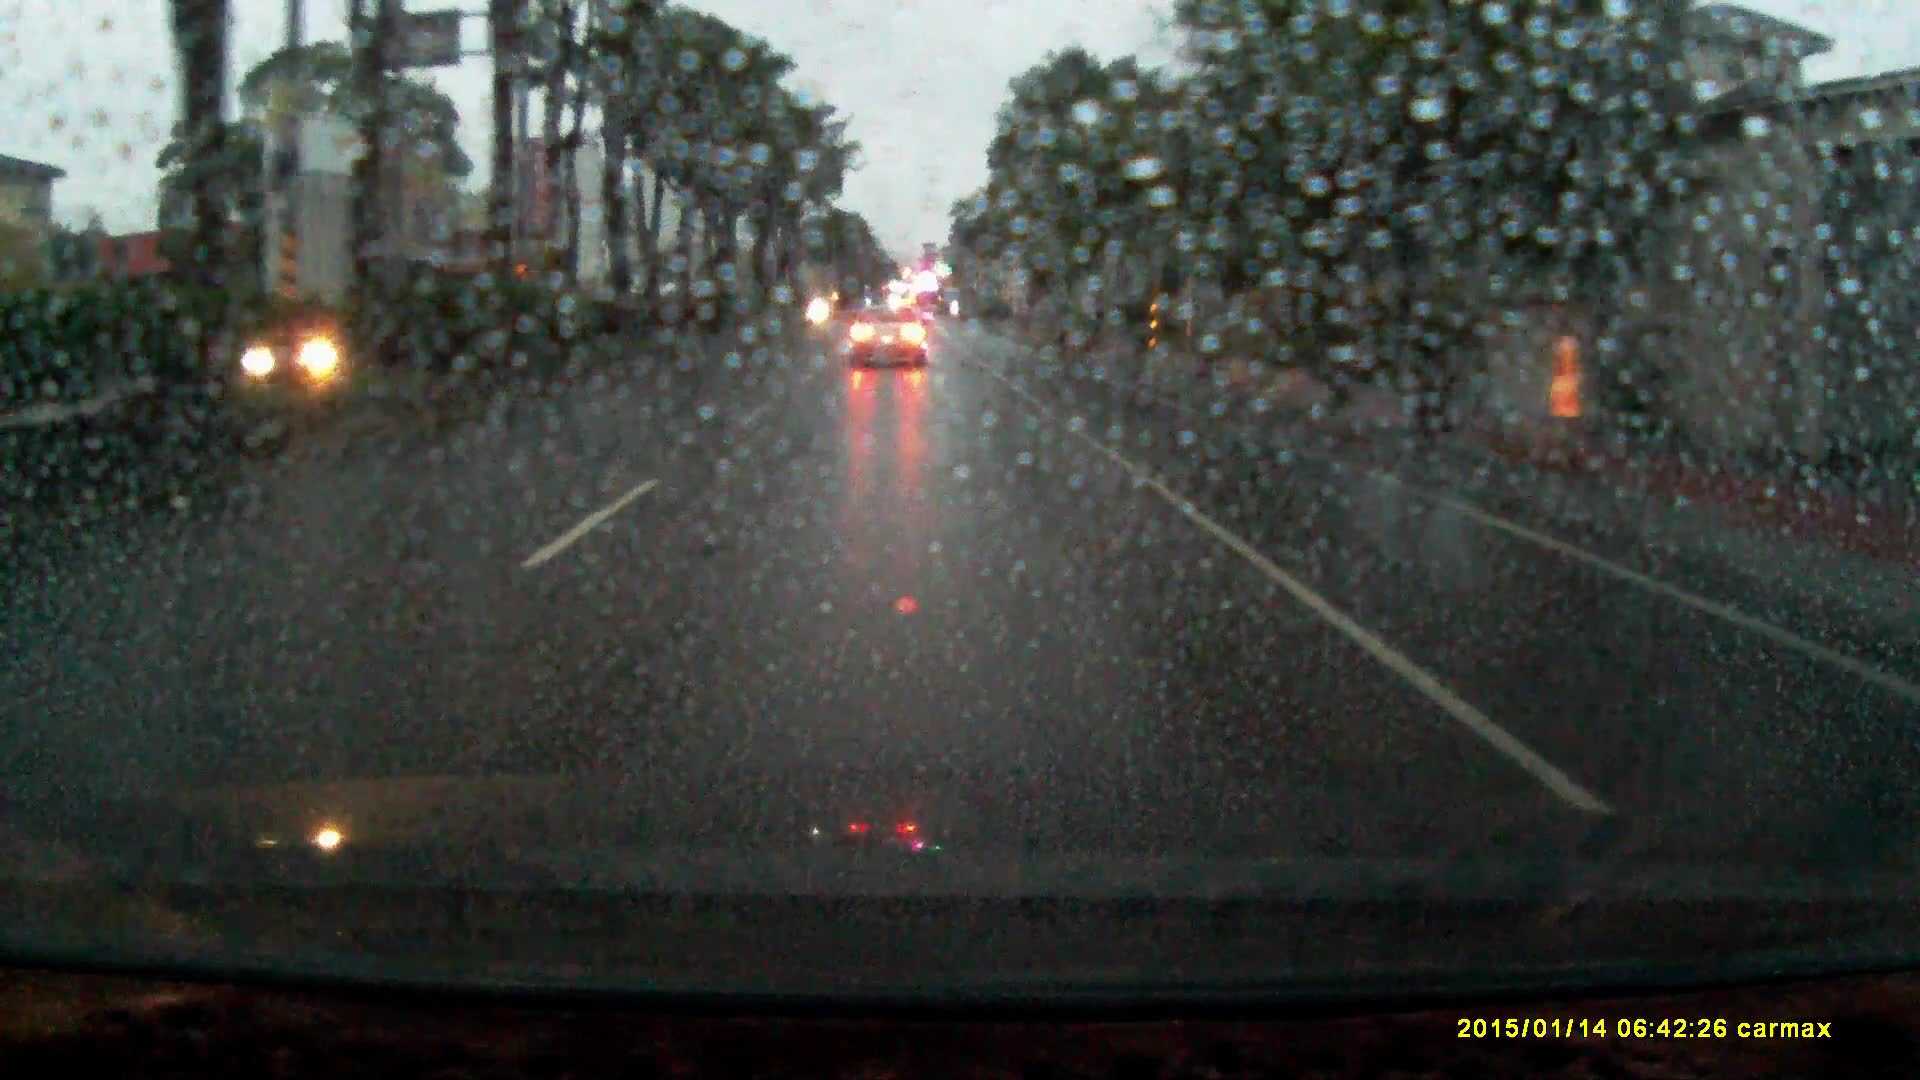vehicle: (847, 295, 930, 364)
